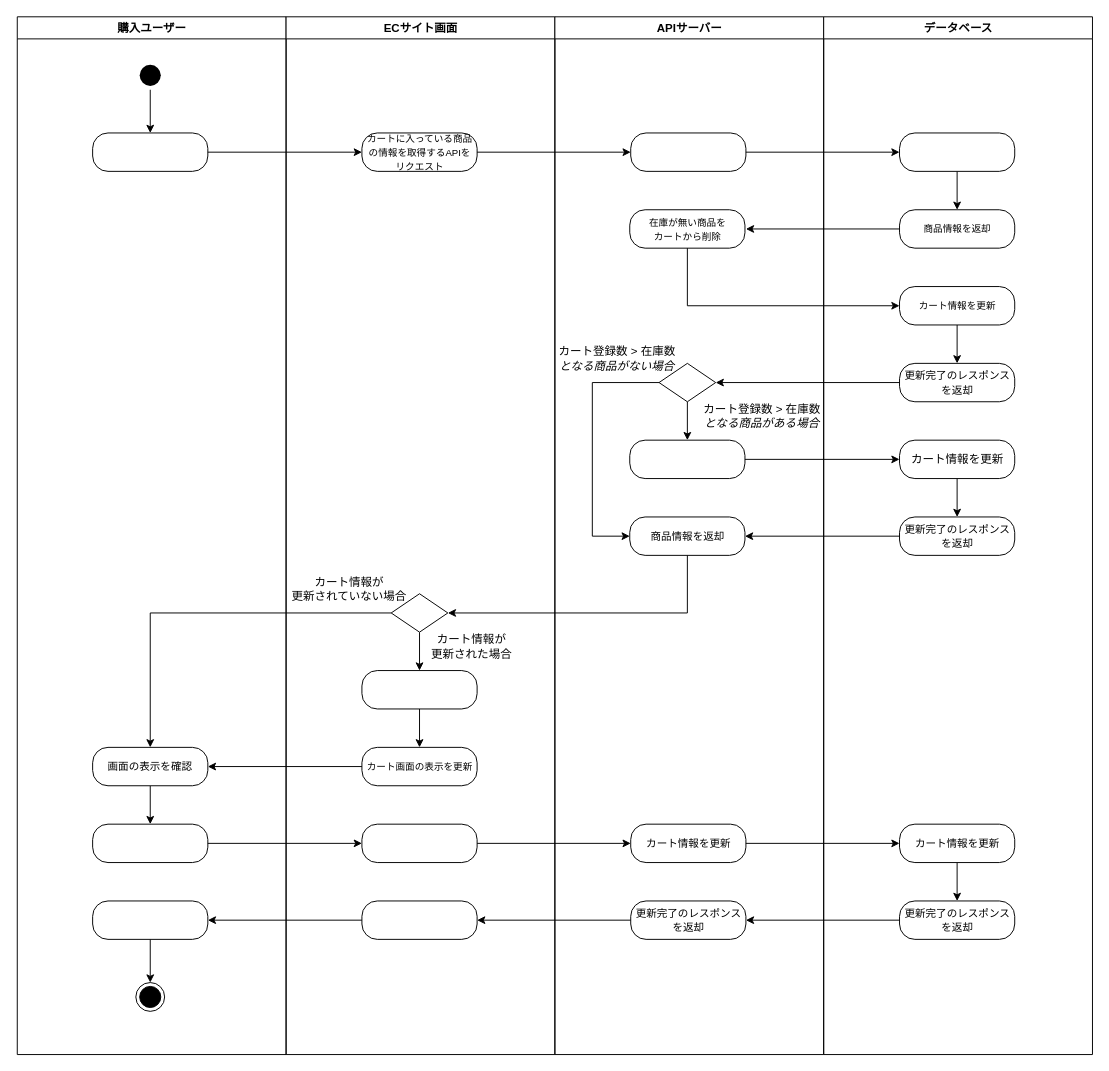
This 1109x1071 diagram has some shape labels left out. The shapes that lost their labels are listed below. From the top down, each one's centre as x and y in pixels, then its label:
At (x=150, y=151): "カート画面にアクセス".
At (x=688, y=151): "商品情報を取得".
At (x=957, y=151): "商品情報を検索".
At (x=687, y=459): "カート登録数を在庫の 最大数に更新".
At (x=419, y=689): "カート情報を変更・削除した メッセージを表示".
At (x=150, y=843): "商品の個数を変更".
At (x=419, y=843): "カート情報を更新するAPIをリクエスト".
At (x=150, y=919): "更新が完了したことを 確認".
At (x=419, y=919): "カート画面に 更新完了の メッセージを表示".
